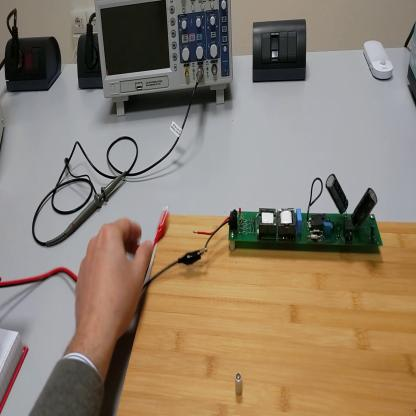hand: (72, 218, 152, 344)
high voltage board: (194, 172, 383, 274)
oscilloscope: (96, 3, 237, 115)
oscilloscope probe tip: (46, 172, 127, 249)
register: (2, 317, 29, 415)
socket: (3, 35, 64, 95), (76, 36, 106, 93)
welder station: (410, 26, 416, 92)
working area: (118, 213, 416, 416)
